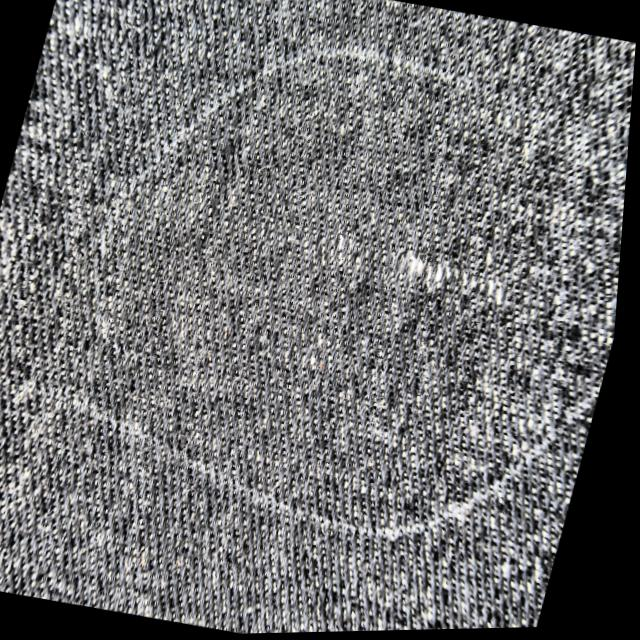Hole: (394, 232, 530, 312)
